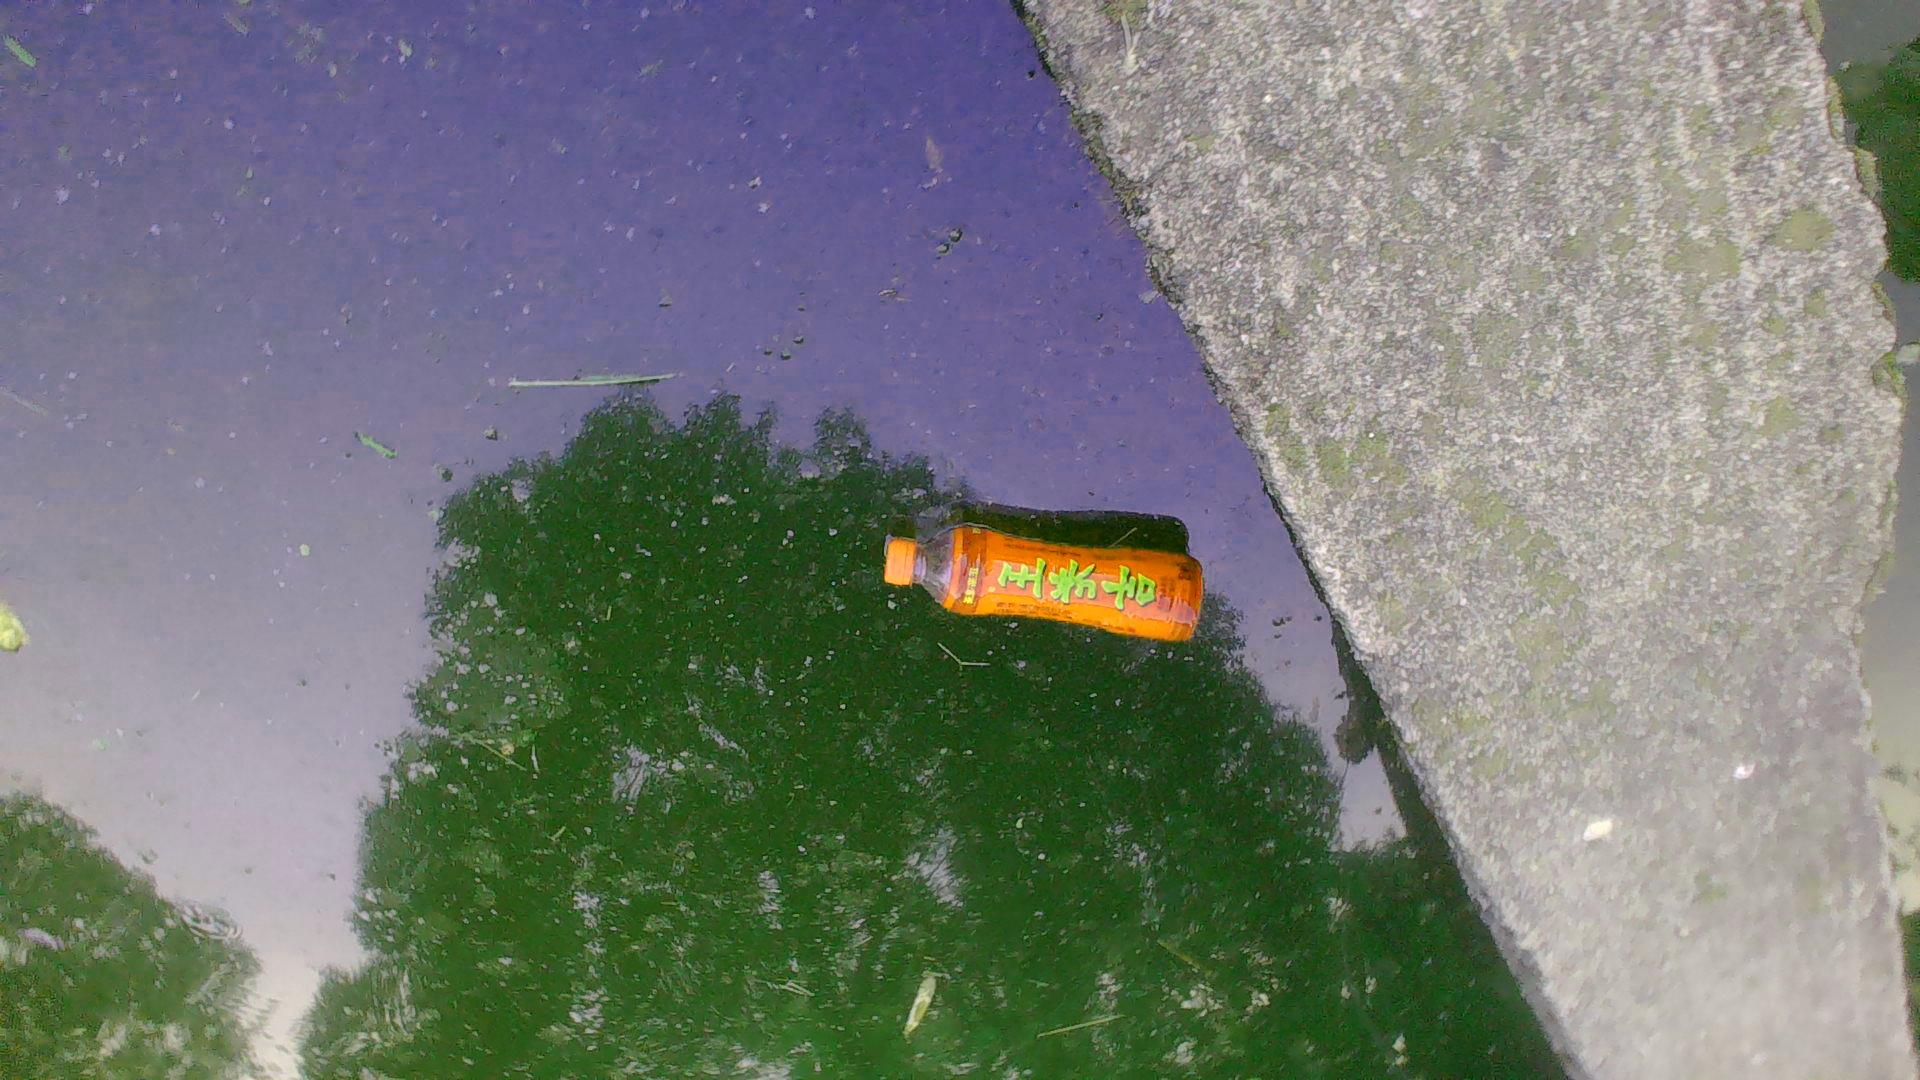Plastic: (873, 520, 1207, 651)
